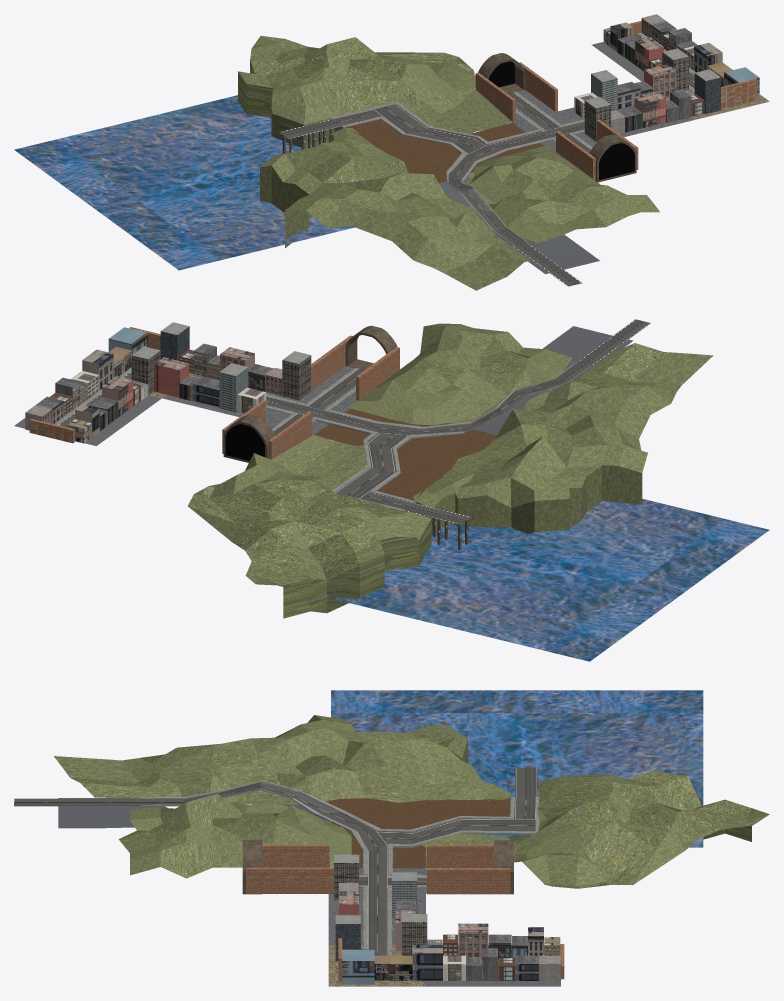
Rendered from CityArea1.glb.
The picture shows the model from 3 angles, top to bottom: view 1: azimuth 30°, elevation 25°; view 2: azimuth 150°, elevation 25°; view 3: azimuth 270°, elevation 25°; orthographic projection. The views are drawn at different scales.
Visible parts, largest first — view 1: Plane.017, Plane.007, Plane.008, Plane.001, Plane.006, Cube.007, Cube.037, Cube.002, Cube.044, Cube.042, Cube.045, Cube.043 (+3 smaller); view 2: Plane.017, Plane.007, Plane.008, Plane.001, Plane.006, Cube.007, Cube.037, Cube.002, Cube.042, Cube.045, Cube.043, Cube.044 (+3 smaller); view 3: Plane.017, Plane.007, Plane.001, Plane.008, Plane.006, Cube.002, Cube.007, Cube.037, Cube.046, Cube.041, Cube.045, Cube.043 (+2 smaller).
Boxes of the visible parts, x1,y1,x2,y2 form: Plane.017: [14, 95, 354, 270]; Plane.007: [260, 127, 530, 290]; Plane.008: [238, 35, 512, 148]; Plane.001: [279, 32, 769, 286]; Plane.006: [465, 145, 659, 243]; Cube.007: [574, 22, 688, 118]; Cube.037: [584, 69, 720, 141]; Cube.002: [641, 14, 759, 98]; Cube.044: [589, 134, 636, 182]; Cube.042: [478, 53, 524, 93]; Cube.045: [556, 131, 595, 180]; Cube.043: [475, 72, 515, 121]; Plane.017: [278, 499, 769, 661]; Plane.007: [413, 343, 713, 534]; Plane.008: [188, 435, 431, 618]; Plane.001: [14, 319, 650, 524]; Plane.006: [347, 323, 572, 425]; Cube.007: [67, 346, 266, 443]; Cube.037: [160, 322, 311, 400]; Cube.002: [25, 327, 147, 430]; Cube.042: [223, 415, 275, 462]; Cube.045: [356, 347, 399, 400]; Cube.043: [268, 411, 312, 459]; Cube.044: [345, 325, 397, 370]; Plane.017: [331, 690, 703, 847]; Plane.007: [54, 715, 510, 804]; Plane.001: [14, 767, 560, 986]; Plane.008: [421, 771, 769, 888]; Plane.006: [118, 793, 351, 878]; Cube.002: [342, 945, 560, 984]; Cube.007: [392, 872, 560, 959]; Cube.037: [334, 854, 360, 961]; Cube.046: [246, 867, 333, 893]; Cube.041: [427, 868, 510, 894]; Cube.045: [262, 844, 329, 867]; Cube.043: [427, 844, 494, 867].
Bounding box in the file's own units: 605 × 73.14 × 595.
Materials: 27 (26 with a texture image).
